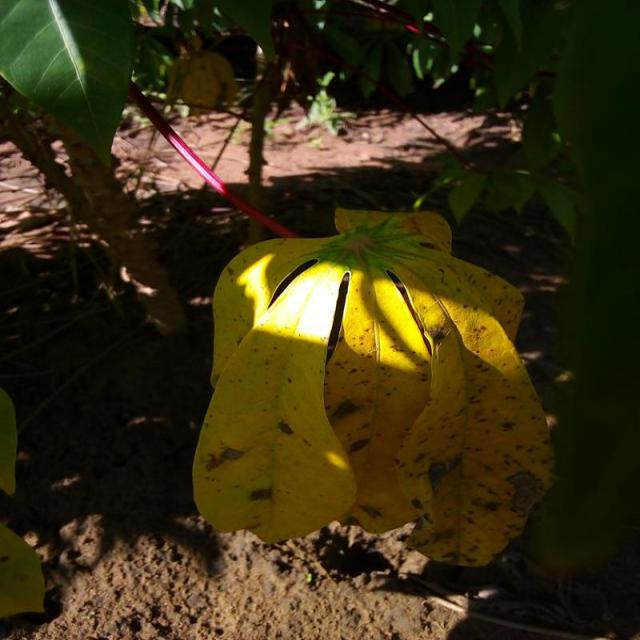cassava leaf: (191, 205, 556, 568), (0, 0, 134, 167)
